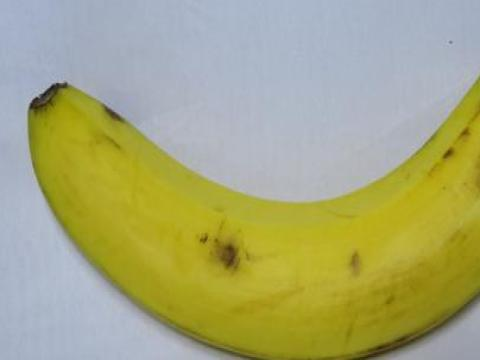freshripe: (15, 60, 479, 359)
